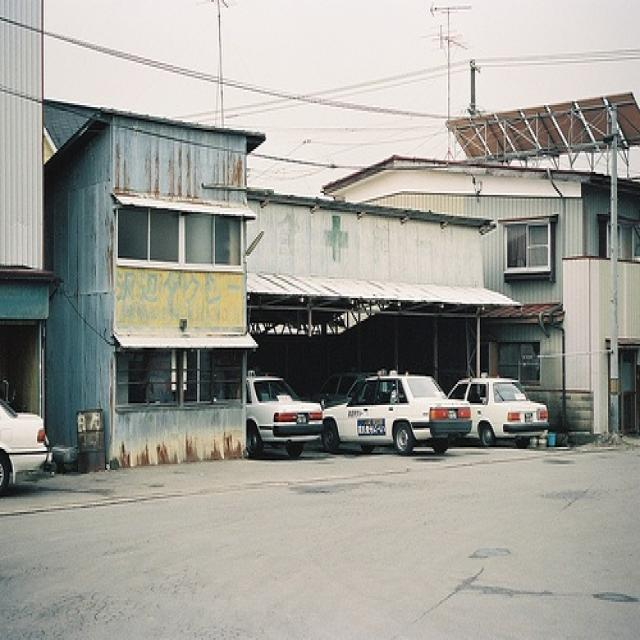car: (321, 368, 471, 452), (246, 372, 321, 458), (448, 372, 552, 433), (0, 394, 50, 498), (317, 367, 374, 405)
